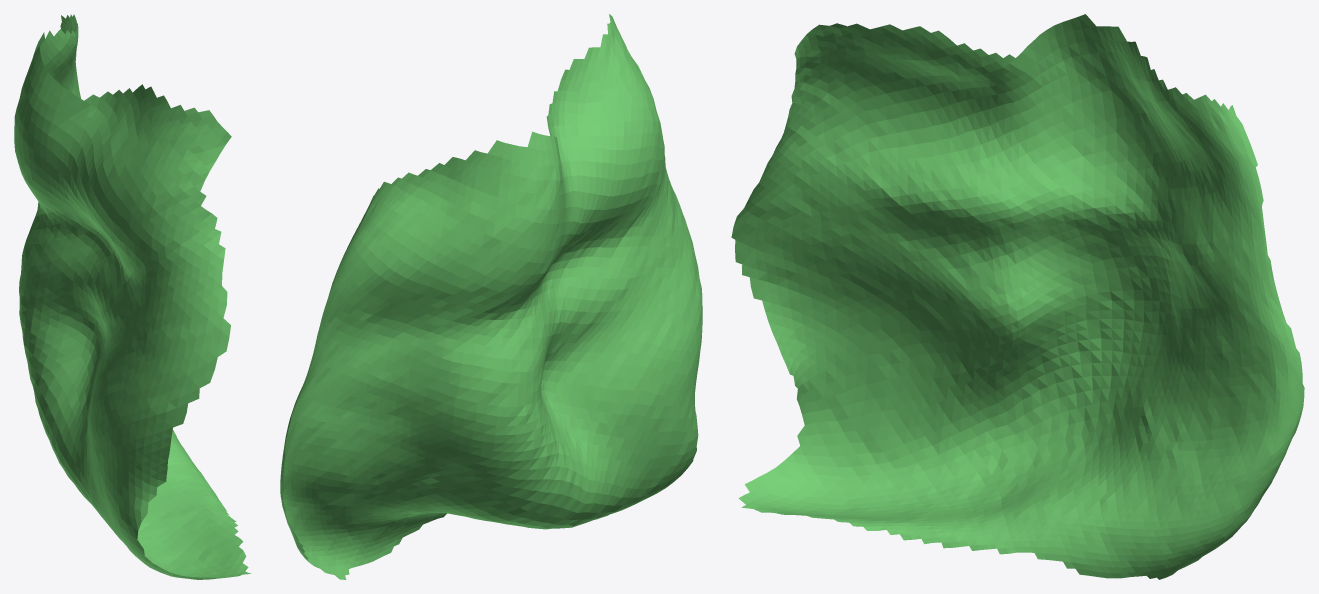
File: rh_paracentral.glb
3 renders of one model, left to right at view 1: azimuth 30°, elevation 25°; view 2: azimuth 150°, elevation 25°; view 3: azimuth 270°, elevation 25°, orthographic. The views are drawn at different scales.
Visible parts, largest first — view 1: world; view 2: world; view 3: world.
Boxes of the visible parts, bbox=[...] form: world: bbox=[14, 14, 251, 579]; world: bbox=[280, 14, 702, 579]; world: bbox=[731, 14, 1304, 579].
Bounding box in the file's own units: 16.41 × 35.96 × 37.18.
